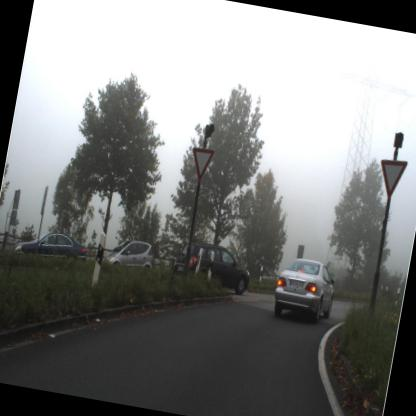other: (371, 153, 410, 204), (185, 142, 217, 184)
